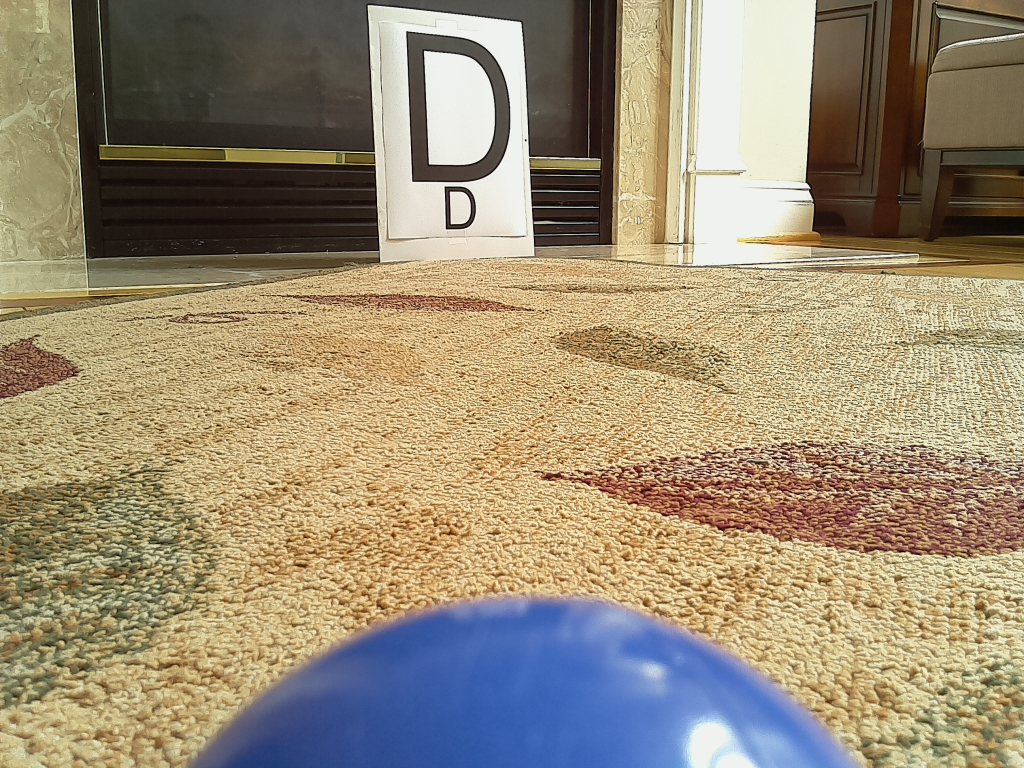letter: (412, 33, 511, 182)
